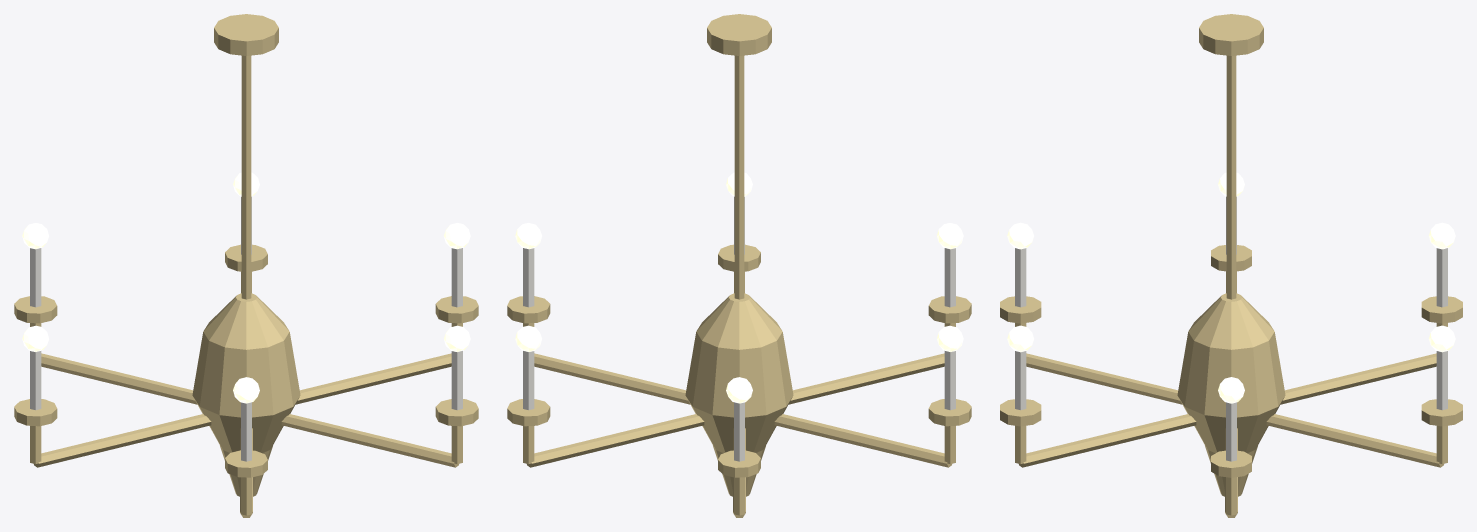
File: chandelier.glb
The picture shows the model from 3 angles, left to right: view 1: azimuth 30°, elevation 25°; view 2: azimuth 150°, elevation 25°; view 3: azimuth 270°, elevation 25°; orthographic projection.
Visible parts, largest first — view 1: chandelier_brass, chandelier_linen, chandelier_lamp_glass; view 2: chandelier_brass, chandelier_linen, chandelier_lamp_glass; view 3: chandelier_brass, chandelier_linen, chandelier_lamp_glass.
Boxes of the visible parts, x1=… form: chandelier_brass: x1=14, y1=14, x2=478, y2=517; chandelier_linen: x1=30, y1=196, x2=462, y2=461; chandelier_lamp_glass: x1=22, y1=172, x2=470, y2=403; chandelier_brass: x1=507, y1=14, x2=971, y2=517; chandelier_linen: x1=523, y1=196, x2=955, y2=461; chandelier_lamp_glass: x1=515, y1=172, x2=963, y2=403; chandelier_brass: x1=1000, y1=14, x2=1462, y2=517; chandelier_linen: x1=1015, y1=196, x2=1447, y2=461; chandelier_lamp_glass: x1=1007, y1=172, x2=1455, y2=403.
Bounding box in the file's own units: 0.98 × 0.95 × 0.8555.
